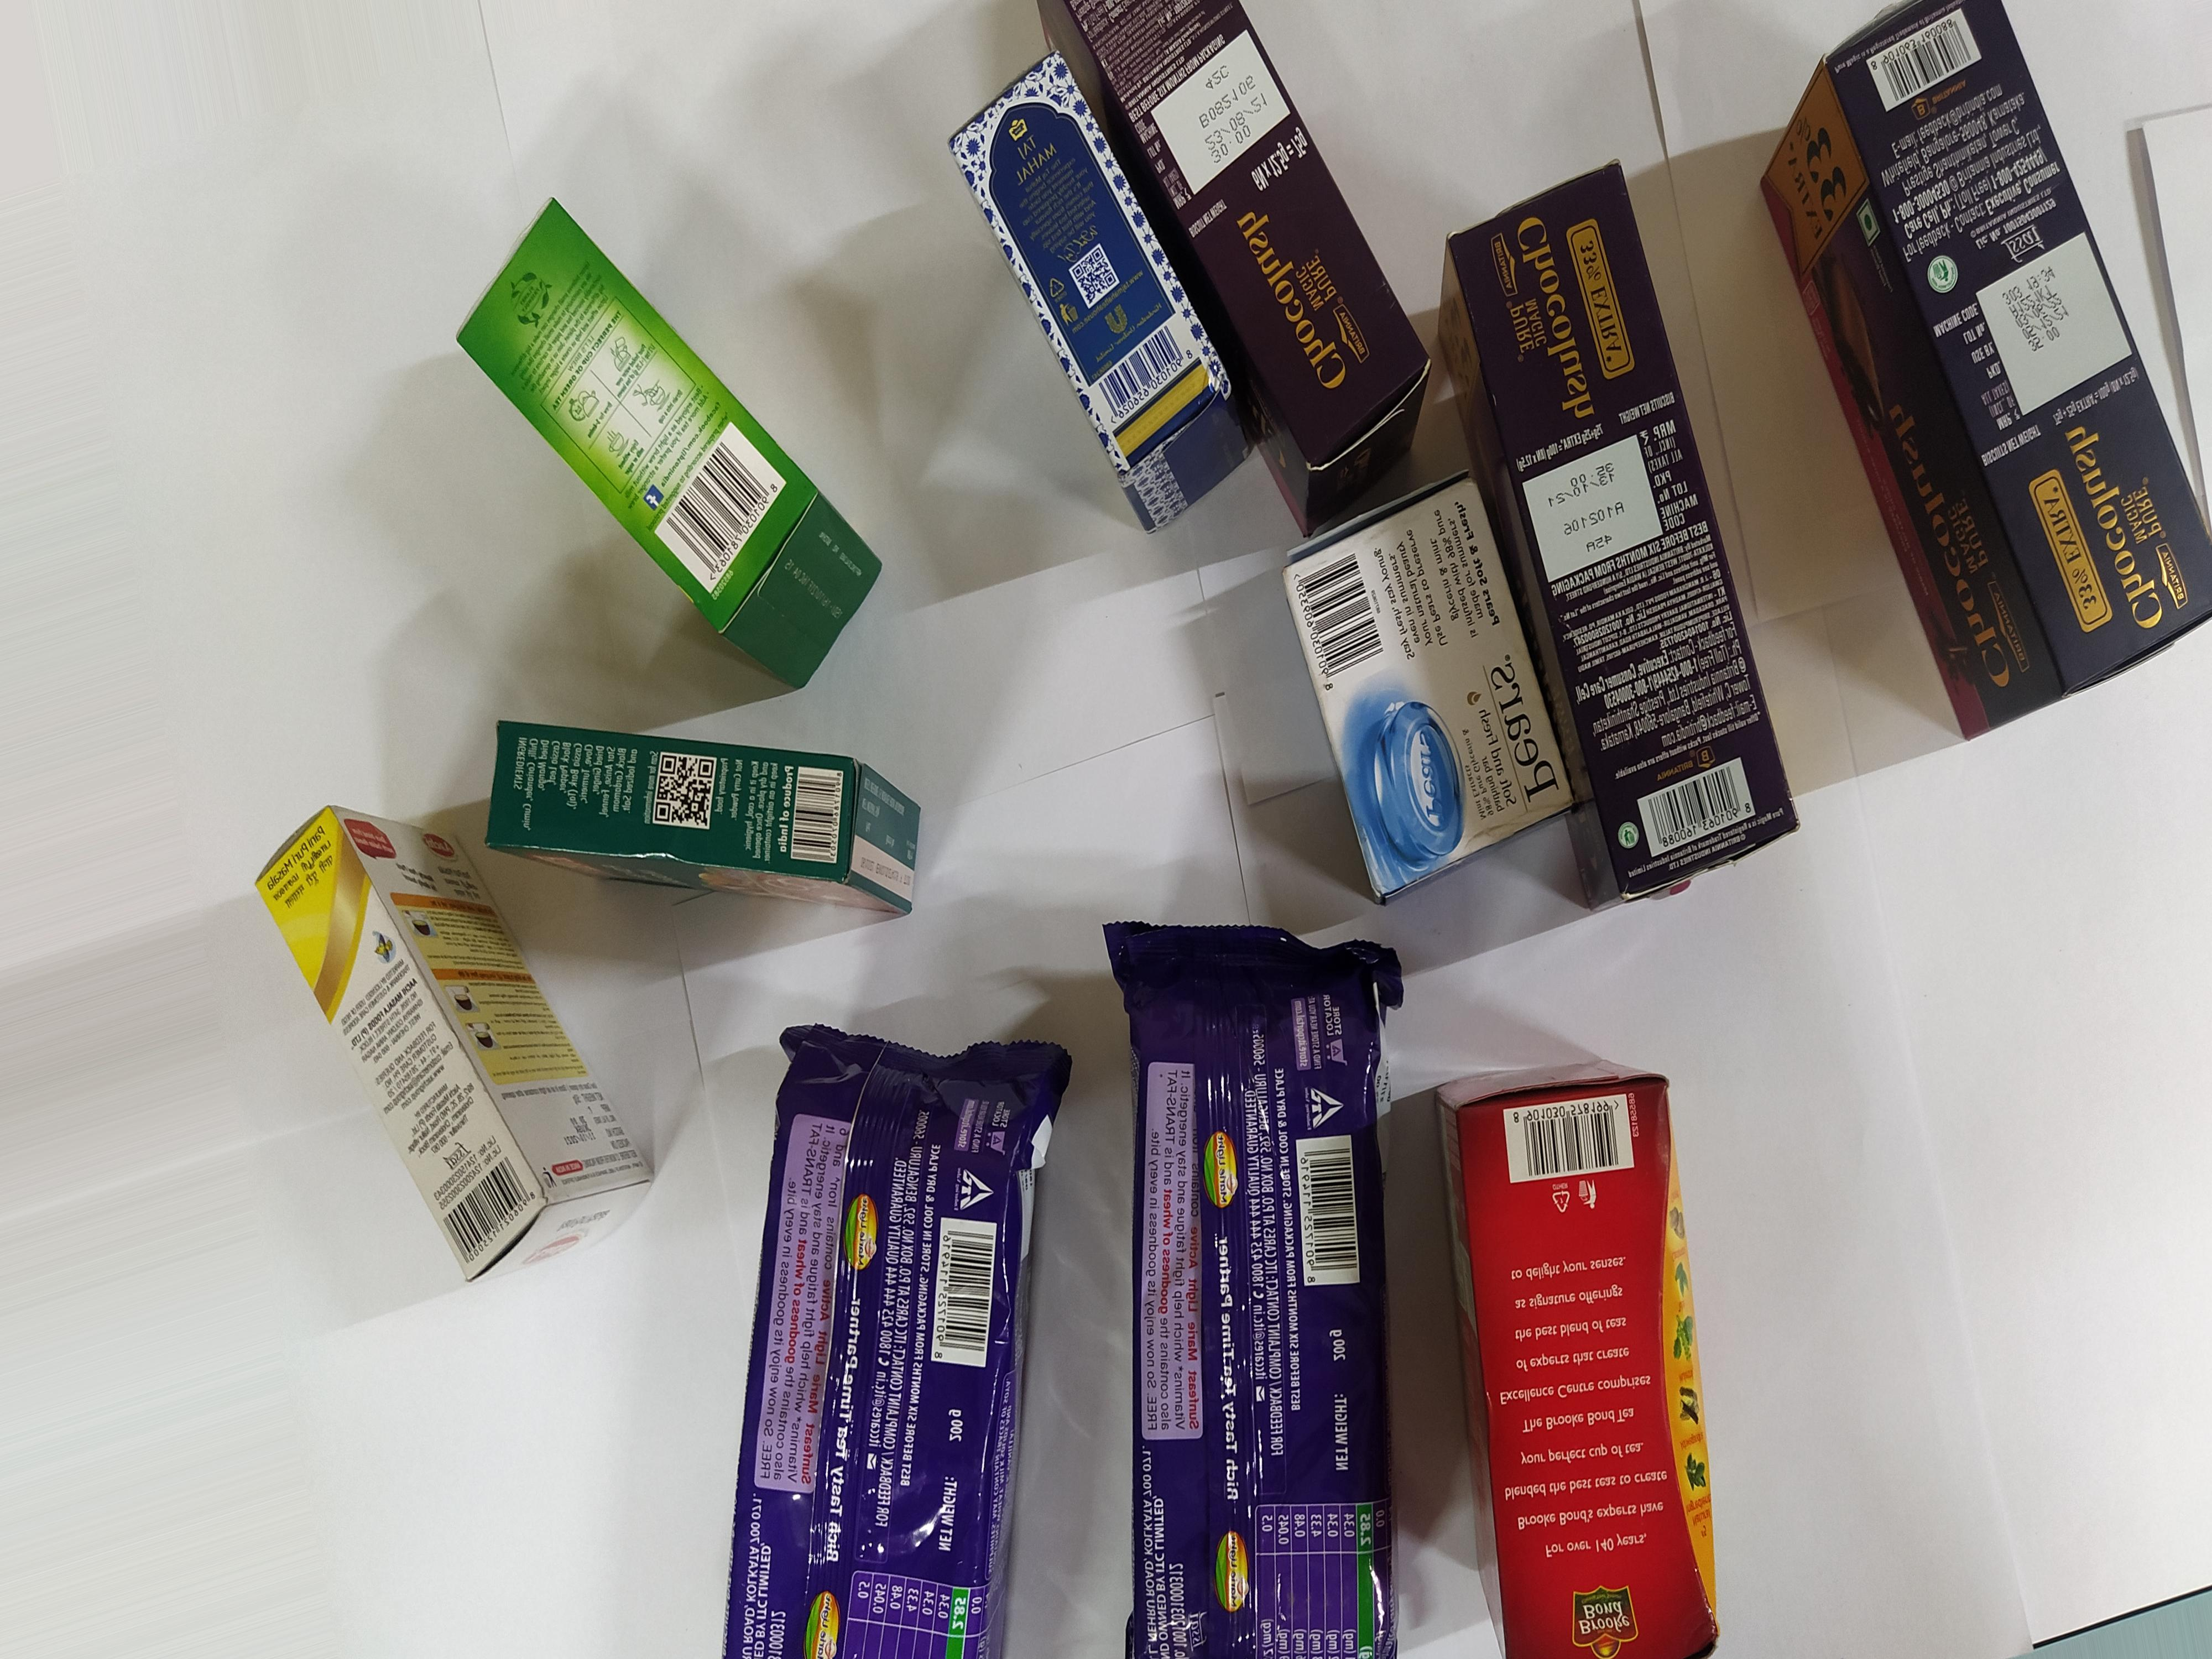Bar_code: (648, 425, 792, 598), (1270, 549, 1397, 695), (1474, 1086, 1656, 1183), (427, 1157, 550, 1291), (1280, 1127, 1374, 1291), (1851, 9, 1987, 120), (1625, 763, 1775, 863), (1096, 298, 1205, 416), (927, 1211, 1001, 1378), (787, 756, 855, 871)
Item: (1730, 10, 2200, 782), (1068, 890, 1444, 1659), (1447, 162, 1806, 943), (425, 197, 923, 721), (737, 993, 1111, 1659), (1426, 1039, 1824, 1659), (235, 793, 716, 1302), (1096, 0, 1446, 497), (942, 54, 1251, 544), (470, 685, 1031, 950), (1263, 479, 1599, 896)
QR_code: (634, 741, 730, 842), (1071, 247, 1125, 319)
